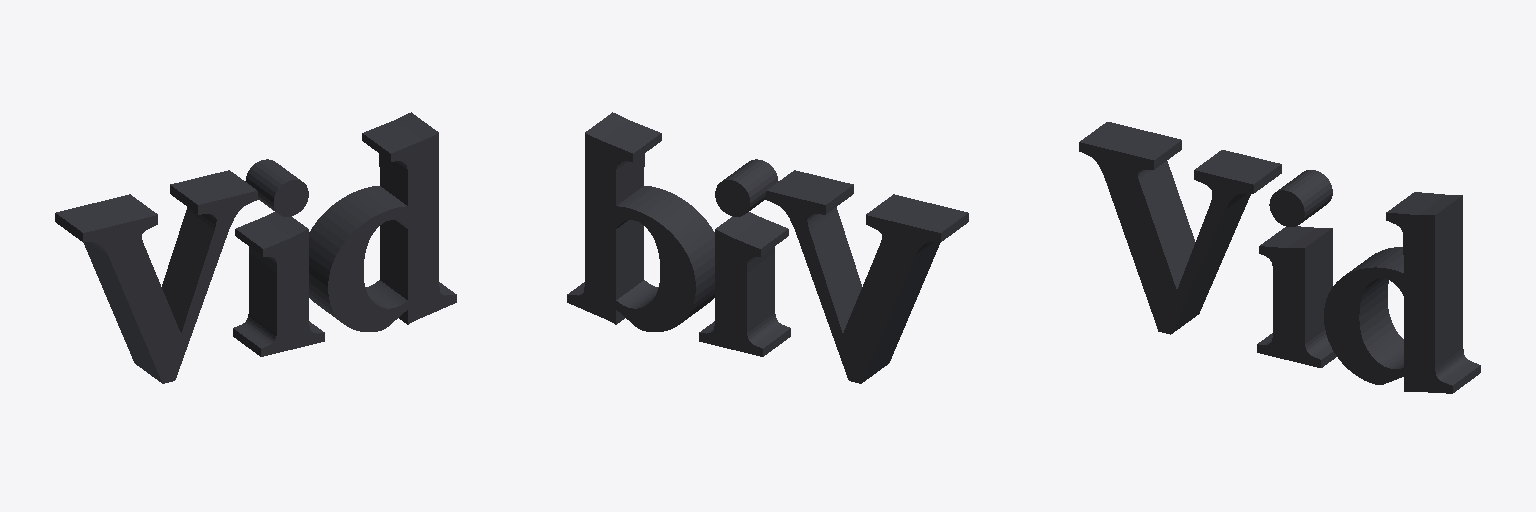
Rendered from vid.obj.
3 views of the same model, side by side, from view 1: azimuth 30°, elevation 25°; view 2: azimuth 150°, elevation 25°; view 3: azimuth 330°, elevation 25° (orthographic).
Parts seen in each view (by area): view 1: Vid; view 2: Vid; view 3: Vid.
Boxes of the visible parts, <box> form: Vid: <box>55,112,456,383</box>; Vid: <box>567,112,968,383</box>; Vid: <box>1079,122,1480,393</box>.
Bounding box in the file's own units: 76.53 × 36.1 × 10.